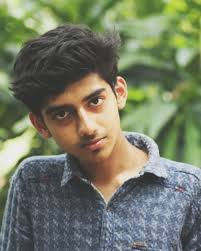noMask: (12, 31, 135, 170)
